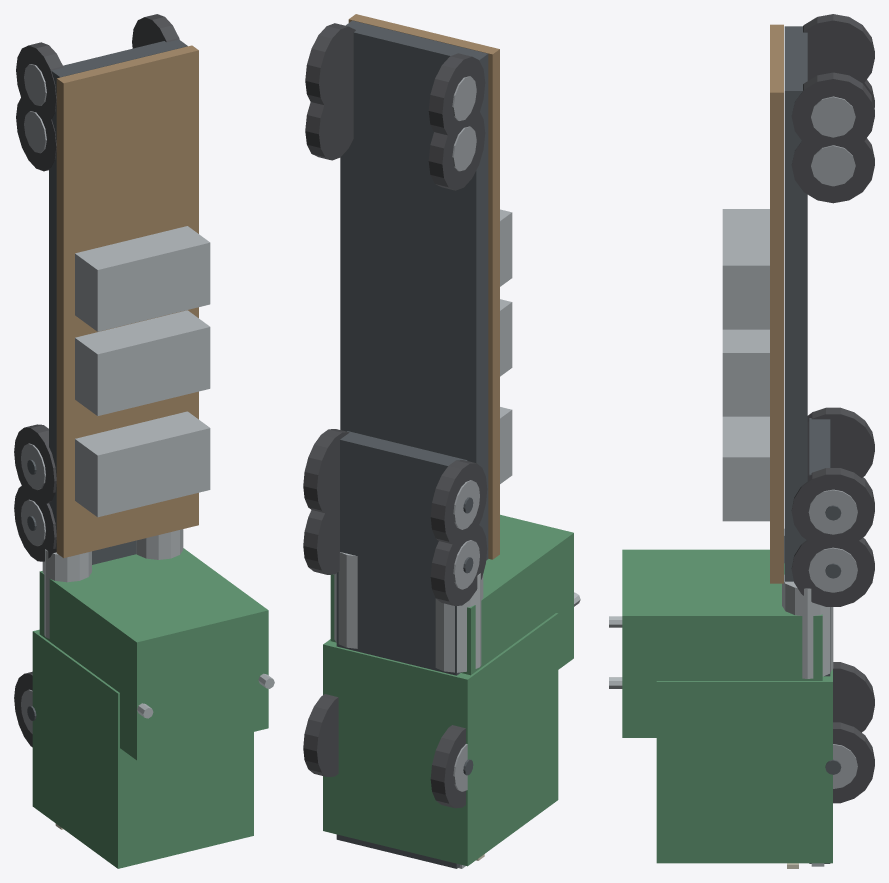
File: semi_flatbed.glb
3 renders of one model, left to right at view 1: azimuth 30°, elevation 25°; view 2: azimuth 150°, elevation 25°; view 3: azimuth 270°, elevation 25°, orthographic. The views are drawn at different scales.
Parts seen in each view (by area): view 1: 0031_Flatbed_deck, 0007_Sleeper_pod, 0001_Tractor_cab, 0032_Freight_stacks, 0033_Freight_stacks, 0034_Freight_stacks, 0030_Trailer_chassis, 0039_Trailer_tire, 0024_Wheel_tire, 0008_Fuel_tank, 0035_Trailer_tire, 0018_Wheel_tire (+8 smaller); view 2: 0030_Trailer_chassis, 0001_Tractor_cab, 0000_Tractor_frame, 0007_Sleeper_pod, 0031_Flatbed_deck, 0041_Trailer_tire, 0037_Trailer_tire, 0008_Fuel_tank, 0024_Wheel_tire, 0039_Trailer_tire, 0027_Wheel_tire, 0015_Wheel_tire (+12 smaller); view 3: 0001_Tractor_cab, 0007_Sleeper_pod, 0030_Trailer_chassis, 0031_Flatbed_deck, 0034_Freight_stacks, 0032_Freight_stacks, 0033_Freight_stacks, 0039_Trailer_tire, 0037_Trailer_tire, 0041_Trailer_tire, 0021_Wheel_tire, 0027_Wheel_tire (+10 smaller).
Part boxes in pixels (x1=…): 0031_Flatbed_deck: x1=56, y1=45, x2=198, y2=558; 0007_Sleeper_pod: x1=39, y1=548, x2=268, y2=760; 0001_Tractor_cab: x1=32, y1=629, x2=253, y2=868; 0032_Freight_stacks: x1=75, y1=411, x2=210, y2=517; 0033_Freight_stacks: x1=75, y1=310, x2=210, y2=415; 0034_Freight_stacks: x1=75, y1=226, x2=210, y2=331; 0030_Trailer_chassis: x1=49, y1=39, x2=187, y2=548; 0039_Trailer_tire: x1=16, y1=42, x2=63, y2=123; 0024_Wheel_tire: x1=14, y1=424, x2=56, y2=505; 0008_Fuel_tank: x1=42, y1=549, x2=91, y2=638; 0035_Trailer_tire: x1=16, y1=93, x2=56, y2=171; 0018_Wheel_tire: x1=14, y1=484, x2=56, y2=561; 0030_Trailer_chassis: x1=340, y1=20, x2=488, y2=560; 0001_Tractor_cab: x1=323, y1=613, x2=558, y2=866; 0000_Tractor_frame: x1=336, y1=431, x2=467, y2=868; 0007_Sleeper_pod: x1=330, y1=514, x2=573, y2=675; 0031_Flatbed_deck: x1=348, y1=14, x2=499, y2=559; 0041_Trailer_tire: x1=305, y1=23, x2=355, y2=109; 0037_Trailer_tire: x1=305, y1=76, x2=353, y2=160; 0008_Fuel_tank: x1=435, y1=573, x2=483, y2=672; 0024_Wheel_tire: x1=430, y1=460, x2=487, y2=545; 0039_Trailer_tire: x1=428, y1=53, x2=485, y2=135; 0027_Wheel_tire: x1=303, y1=429, x2=349, y2=515; 0015_Wheel_tire: x1=303, y1=694, x2=338, y2=776; 0001_Tractor_cab: x1=656, y1=669, x2=832, y2=863; 0007_Sleeper_pod: x1=622, y1=549, x2=822, y2=737; 0030_Trailer_chassis: x1=784, y1=26, x2=807, y2=581; 0031_Flatbed_deck: x1=770, y1=24, x2=783, y2=583; 0034_Freight_stacks: x1=722, y1=209, x2=769, y2=329; 0032_Freight_stacks: x1=722, y1=416, x2=769, y2=521; 0033_Freight_stacks: x1=722, y1=329, x2=769, y2=416; 0039_Trailer_tire: x1=803, y1=14, x2=874, y2=83; 0037_Trailer_tire: x1=791, y1=130, x2=874, y2=203; 0041_Trailer_tire: x1=791, y1=72, x2=874, y2=150; 0021_Wheel_tire: x1=791, y1=533, x2=874, y2=606; 0027_Wheel_tire: x1=791, y1=468, x2=874, y2=547.
Size of the model in its own units: 2.59 by 13.63 by 4.15.
